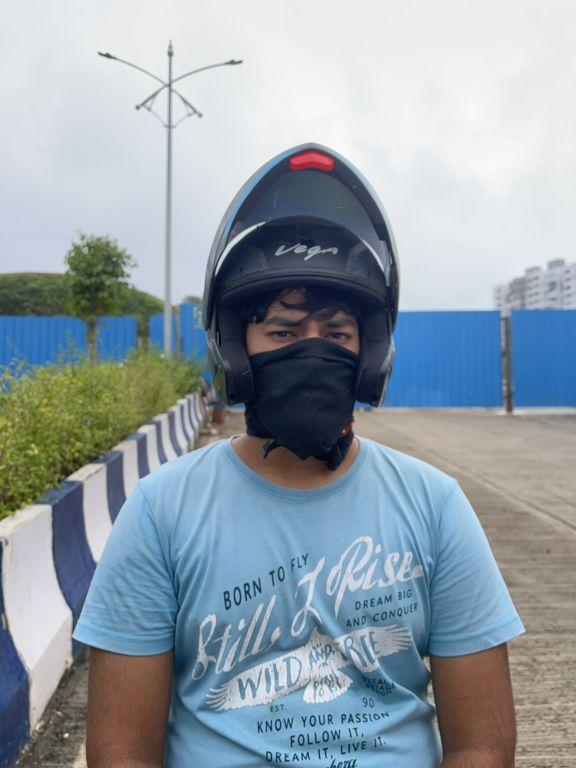helmet: (199, 127, 402, 483)
